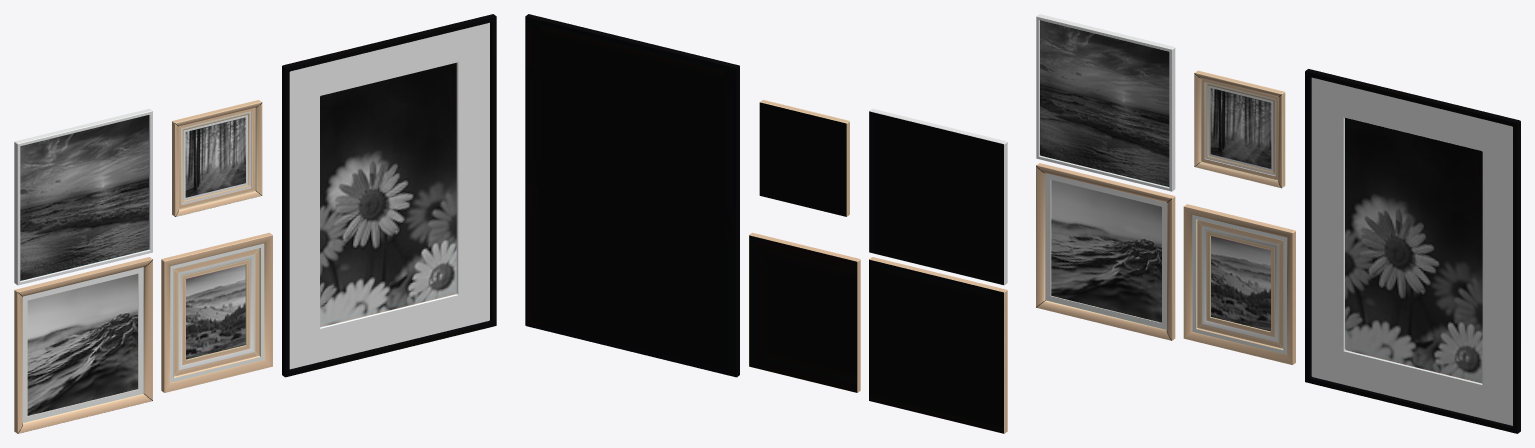
Rendered from quadri.glb.
The picture shows the model from 3 angles, left to right: view 1: azimuth 30°, elevation 25°; view 2: azimuth 150°, elevation 25°; view 3: azimuth 330°, elevation 25°; orthographic projection.
Visible parts, largest first — view 1: fiori, mare giu, mare su, colline, bosco; view 2: fiori, mare giu, mare su, colline, bosco; view 3: fiori, mare giu, mare su, colline, bosco.
Boxes of the visible parts, bbox=[...] form: fiori: bbox=[282, 14, 496, 377]; mare giu: bbox=[14, 257, 152, 433]; mare su: bbox=[14, 108, 152, 285]; colline: bbox=[161, 232, 272, 392]; bosco: bbox=[172, 100, 262, 216]; fiori: bbox=[525, 14, 739, 377]; mare giu: bbox=[869, 257, 1007, 433]; mare su: bbox=[869, 108, 1007, 285]; colline: bbox=[749, 232, 860, 392]; bosco: bbox=[759, 99, 849, 216]; fiori: bbox=[1305, 69, 1520, 433]; mare giu: bbox=[1036, 163, 1175, 340]; mare su: bbox=[1036, 14, 1175, 191]; colline: bbox=[1183, 204, 1295, 364]; bosco: bbox=[1194, 70, 1285, 188].
Bounding box in the file's own units: 1.29 × 0.7982 × 0.0163.
Materials: 2 (2 with a texture image).
